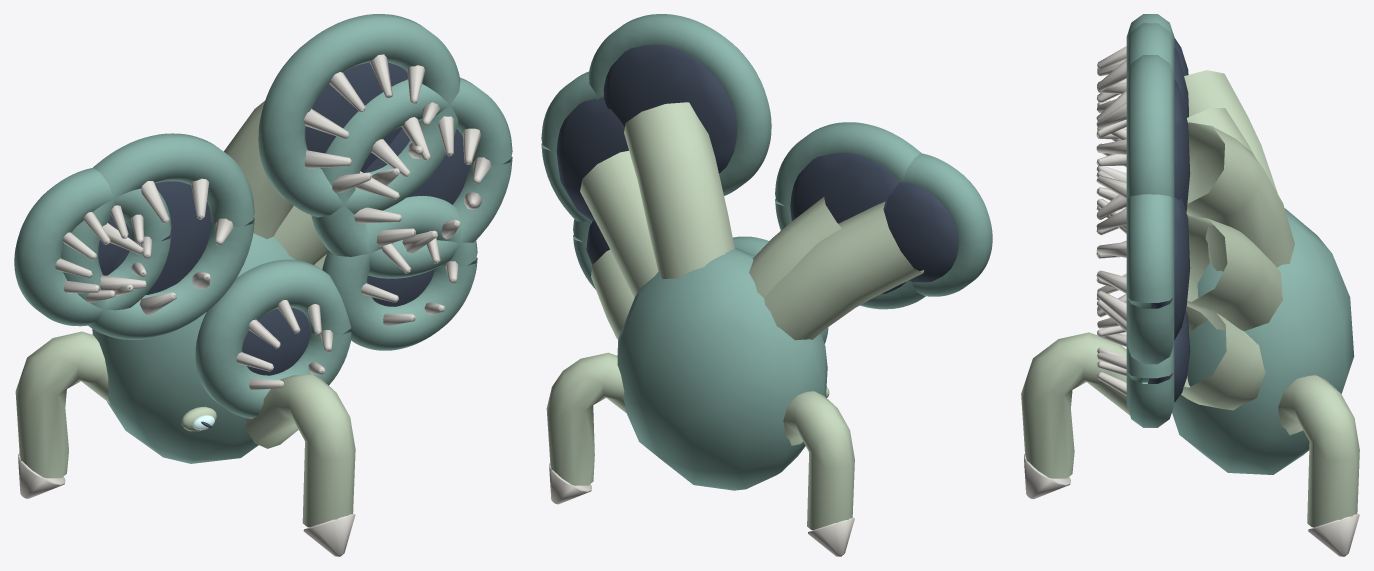
The model's file is bio_manymouth_04_far.glb.
3 renders of one model, left to right at view 1: azimuth 30°, elevation 25°; view 2: azimuth 150°, elevation 25°; view 3: azimuth 270°, elevation 25°, orthographic. The views are drawn at different scales.
Parts seen in each view (by area): view 1: Raised oral lip.003, Raised oral lip.001, Raised oral lip.005, Central branching knot, Raised oral lip.002, Raised oral lip.004, Raised oral lip, Crooked support.002, Crooked support.001, Inward tooth.040, Inward tooth.021, Recessed mouth cavity.001 (+13 smaller); view 2: Central branching knot, Bent oral neck.003, Bent oral neck.004, Raised oral lip.003, Recessed mouth cavity.003, Crooked support, Crooked support.001, Raised oral lip.001, Bent oral neck.005, Raised oral lip.004, Recessed mouth cavity.001, Recessed mouth cavity.004 (+9 smaller); view 3: Central branching knot, Bent oral neck.003, Crooked support.002, Crooked support, Raised oral lip.005, Bent oral neck.005, Raised oral lip.003, Bent oral neck, Raised oral lip, Bent oral neck.004, Inward tooth.040, Inward tooth.021 (+13 smaller).
Boxes of the visible parts, box(x1,y1,x2,y2) form: Raised oral lip.003: box(258, 14, 460, 217); Raised oral lip.001: box(61, 133, 254, 339); Raised oral lip.005: box(311, 77, 512, 278); Central branching knot: box(92, 233, 295, 463); Raised oral lip.002: box(195, 259, 351, 418); Raised oral lip.004: box(14, 168, 171, 326); Raised oral lip: box(322, 196, 477, 350); Crooked support.002: box(246, 374, 355, 527); Crooked support.001: box(15, 331, 109, 478); Inward tooth.040: box(354, 116, 491, 253); Inward tooth.021: box(304, 54, 439, 192); Recessed mouth cavity.001: box(113, 181, 211, 294); Central branching knot: box(617, 247, 827, 490); Bent oral neck.003: box(624, 102, 734, 278); Bent oral neck.004: box(764, 201, 924, 340); Raised oral lip.003: box(588, 14, 771, 195); Recessed mouth cavity.003: box(603, 44, 736, 173); Crooked support: box(546, 352, 626, 485); Crooked support.001: box(783, 391, 854, 530); Raised oral lip.001: box(775, 122, 925, 309); Bent oral neck.005: box(580, 151, 658, 297); Raised oral lip.004: box(898, 153, 992, 296); Recessed mouth cavity.001: box(790, 152, 905, 294); Recessed mouth cavity.004: box(884, 182, 958, 282); Central branching knot: box(1172, 208, 1354, 474); Bent oral neck.003: box(1186, 122, 1294, 271); Crooked support.002: box(1021, 332, 1129, 478); Crooked support: box(1278, 375, 1359, 527); Raised oral lip.005: box(1126, 194, 1174, 364); Bent oral neck.005: box(1186, 216, 1282, 331); Raised oral lip.003: box(1126, 55, 1174, 199); Bent oral neck: box(1181, 301, 1265, 410); Raised oral lip: box(1126, 344, 1174, 427); Bent oral neck.004: box(1184, 70, 1277, 192); Inward tooth.040: box(1096, 194, 1126, 331); Inward tooth.021: box(1096, 90, 1126, 233).
Size of the model in its own units: 2.13 by 1.97 by 1.28.
